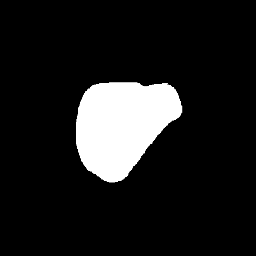mass: (80, 82, 178, 181)
